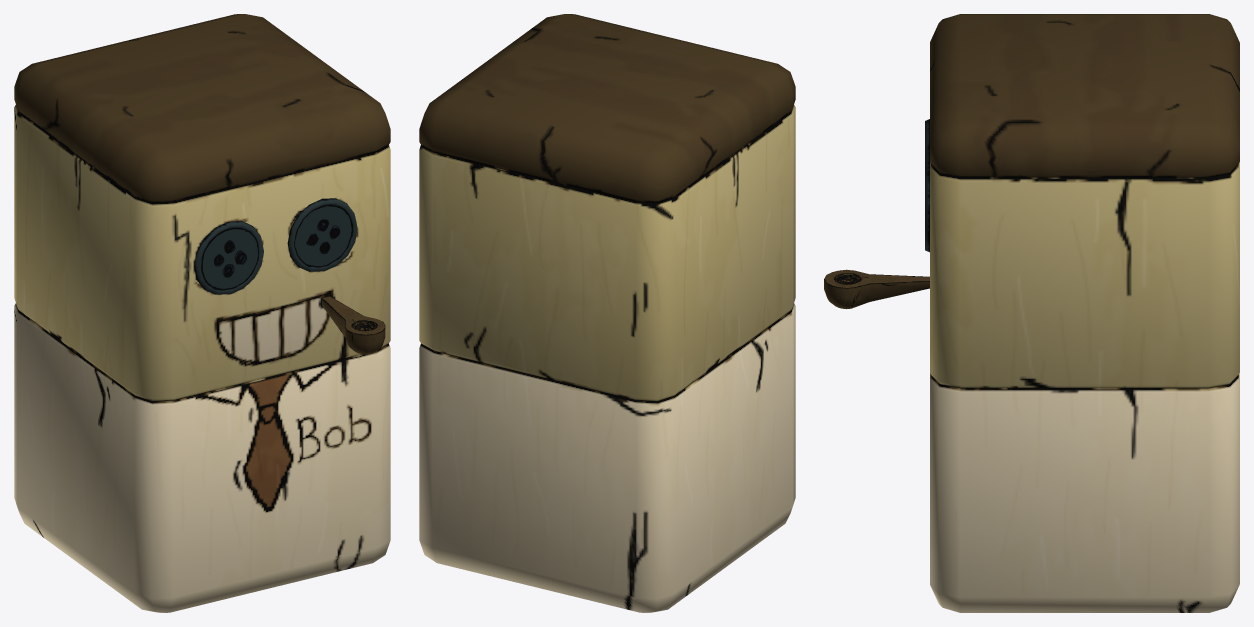
The model's file is Ctbl_MysteryFigurine.fbx.
The picture shows the model from 3 angles, left to right: view 1: azimuth 30°, elevation 25°; view 2: azimuth 150°, elevation 25°; view 3: azimuth 270°, elevation 25°; orthographic projection. The views are drawn at different scales.
Visible parts, largest first — view 1: mystery_figure; view 2: mystery_figure; view 3: mystery_figure.
Boxes of the visible parts, left/top/right/bottom form: mystery_figure: left=14, top=14, right=390, bottom=612; mystery_figure: left=419, top=14, right=795, bottom=612; mystery_figure: left=824, top=14, right=1239, bottom=612.
Bounding box in the file's own units: 200 × 350 × 268.
